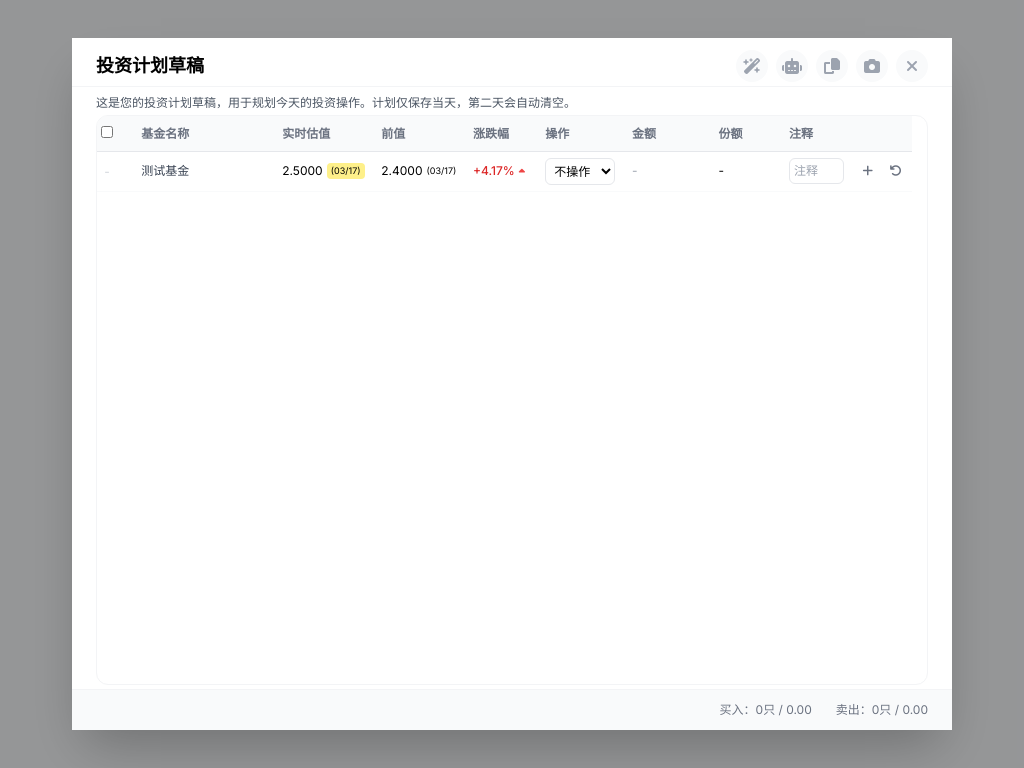
InvestmentDraftModal AI 建议持久化 › 上一交易日涨跌幅 hovertip › 有历史数据时显示上一交易日涨跌幅 hovertip
Expected: the text "测试基金" is shown, top-left (141, 163), bottom-right (189, 178)
Expected: the text "+4.17%" is shown, top-left (473, 163), bottom-right (515, 179)
# 鼠标悬停在小三角图标上显示 tooltip
Step 1. Hover over the icon with class "fa-caret-up" → (524, 171), box top-left (519, 166), bottom-right (529, 176)
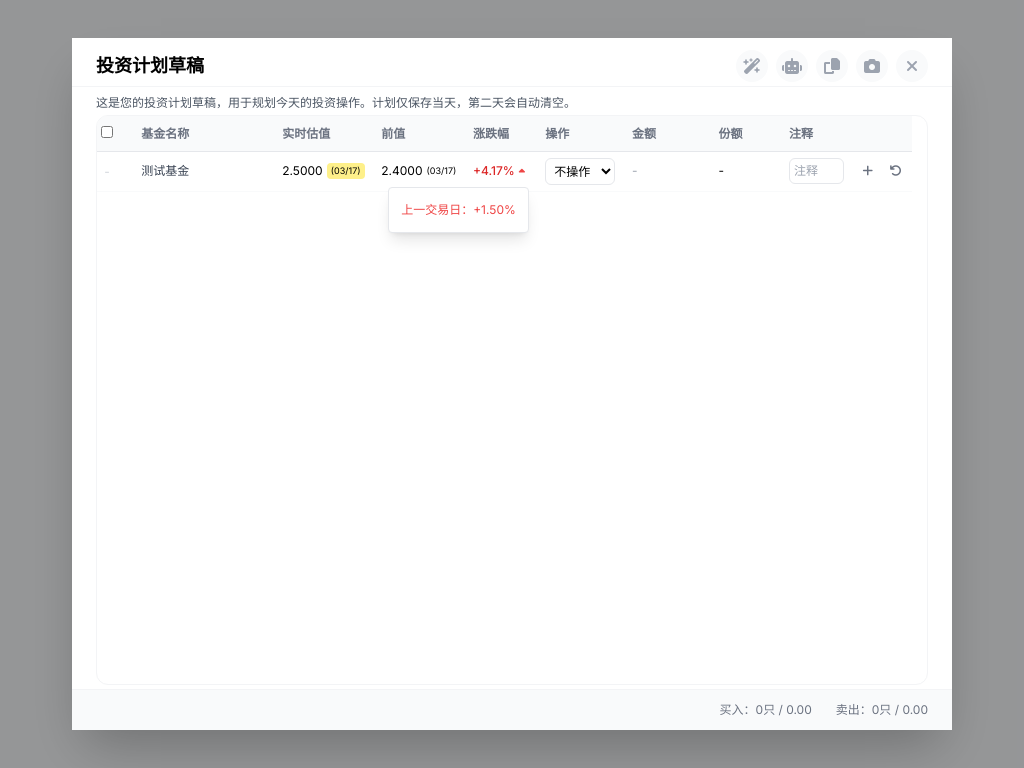
Expected: the text "上一交易日：+1.50%" is shown, top-left (401, 202), bottom-right (516, 217)
